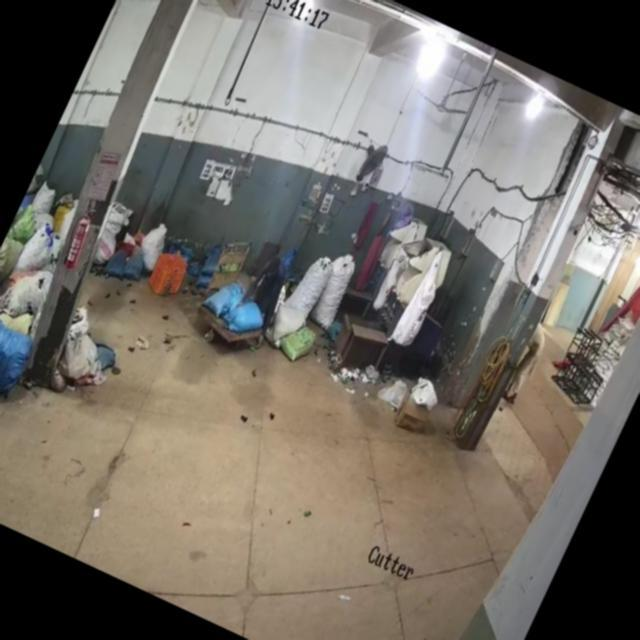person: (352, 188, 408, 290), (503, 319, 555, 410), (242, 258, 292, 320)
